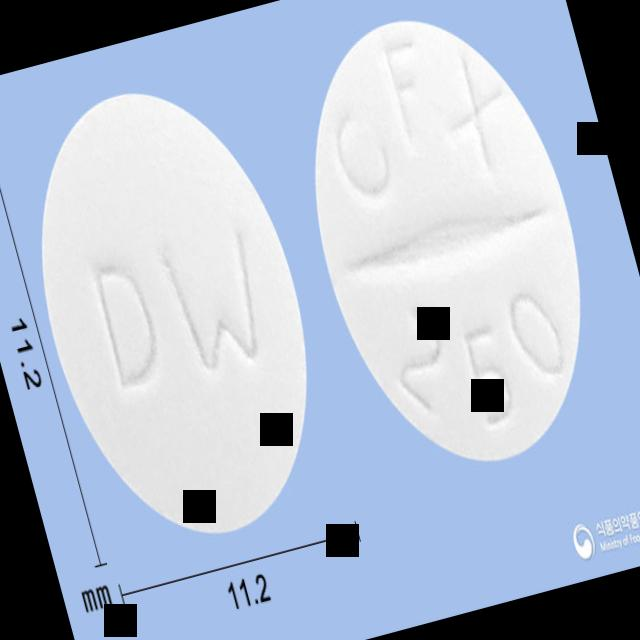Ciplus: (0, 56, 359, 572), (267, 0, 629, 493)
